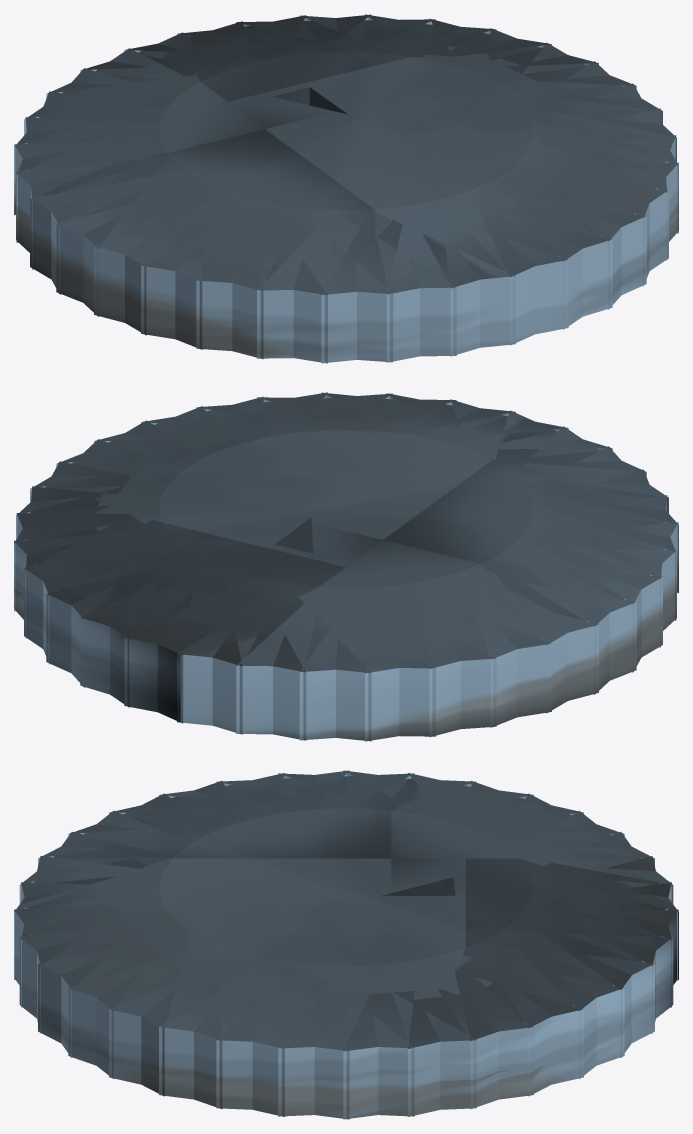
File: screwhead.fbx
3 views of the same model, one above another, from view 1: azimuth 30°, elevation 25°; view 2: azimuth 150°, elevation 25°; view 3: azimuth 270°, elevation 25° (orthographic).
Visible parts, largest first — view 1: Cylinder.006; view 2: Cylinder.006; view 3: Cylinder.006.
Boxes of the visible parts, x1,y1,x2,y2 form: Cylinder.006: (14,14,678,363); Cylinder.006: (14,392,678,741); Cylinder.006: (14,770,678,1119).
Size of the model in its own units: 10.43 by 2 by 10.43.
Materials: 1 (1 with a texture image).
